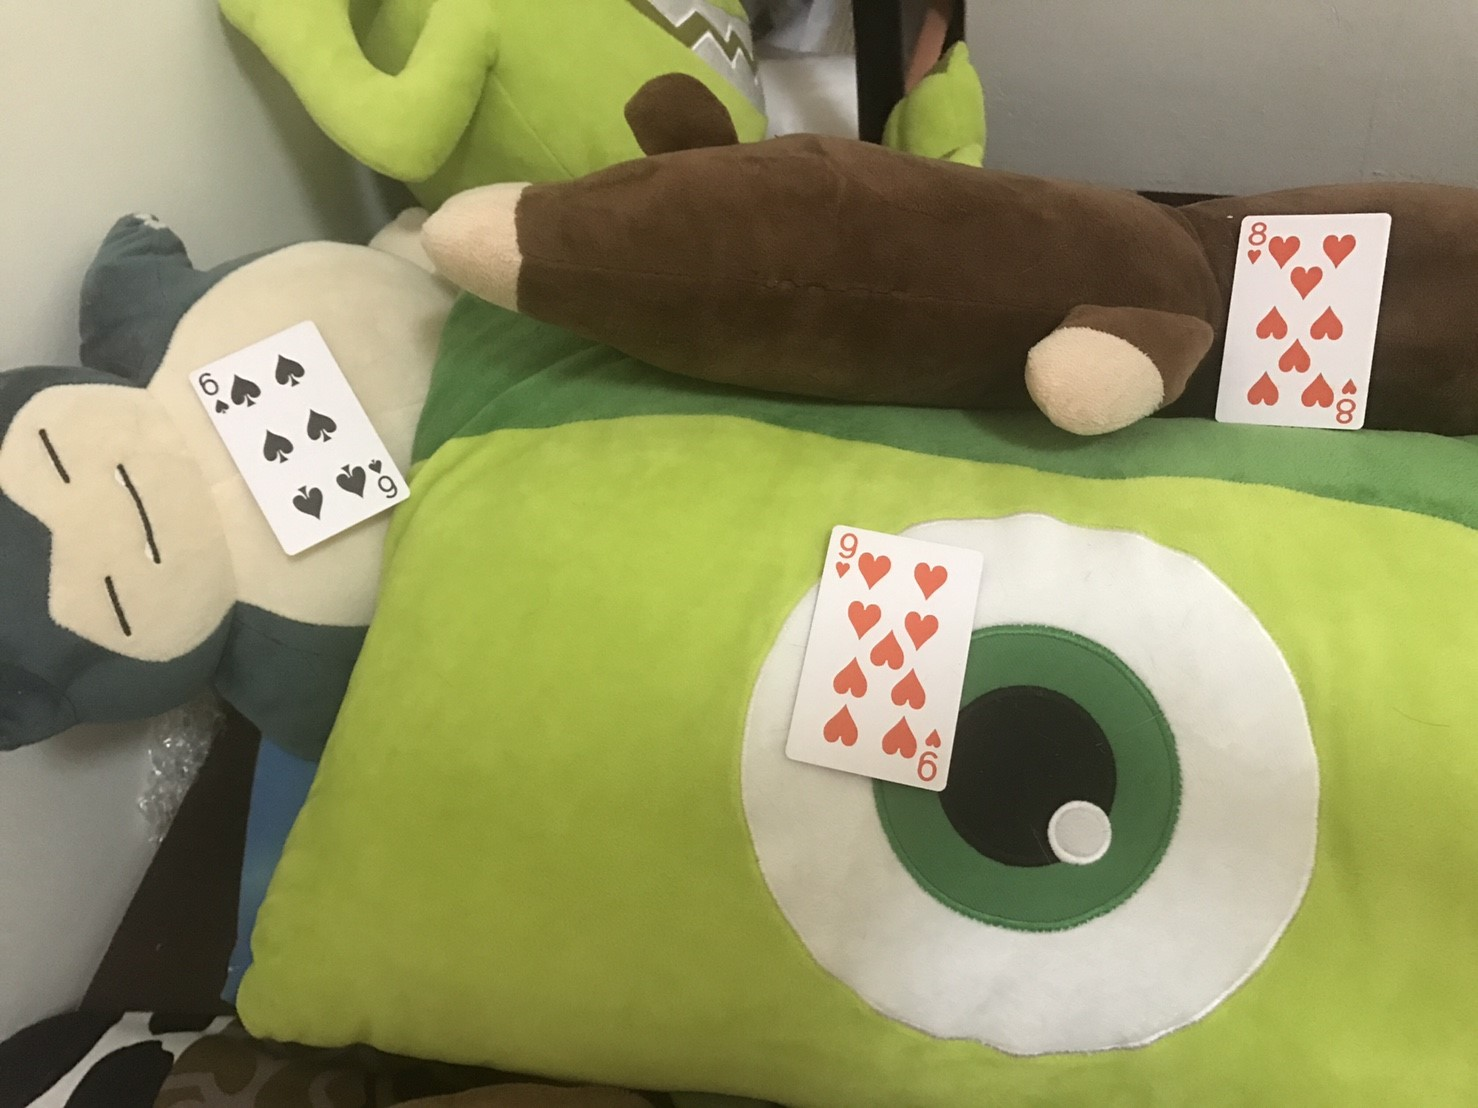hearts: (911, 559, 961, 601), (820, 704, 864, 751), (881, 718, 924, 761), (903, 612, 945, 654), (1246, 307, 1293, 345), (1243, 369, 1284, 411), (891, 670, 931, 712), (1319, 230, 1363, 268), (845, 601, 886, 640), (1306, 305, 1350, 341), (827, 658, 867, 697), (871, 633, 909, 672), (1299, 372, 1340, 409), (1274, 340, 1316, 375), (857, 548, 891, 587), (1285, 269, 1326, 300), (1270, 236, 1300, 272), (1341, 372, 1366, 398), (917, 727, 945, 748), (830, 557, 853, 582), (1245, 246, 1264, 262)
spades: (226, 372, 264, 409), (305, 406, 340, 446), (291, 485, 329, 520), (260, 429, 298, 463), (333, 464, 368, 500), (271, 354, 304, 388), (205, 395, 230, 418), (365, 452, 389, 475)
